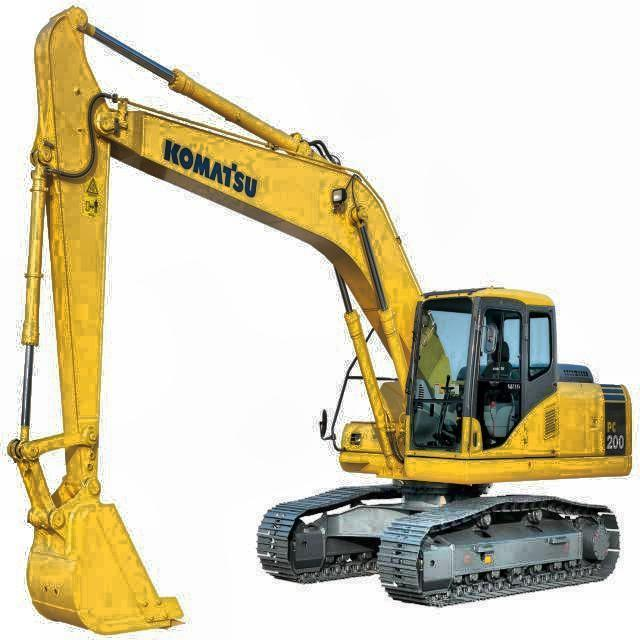excavator: (6, 9, 634, 640)
